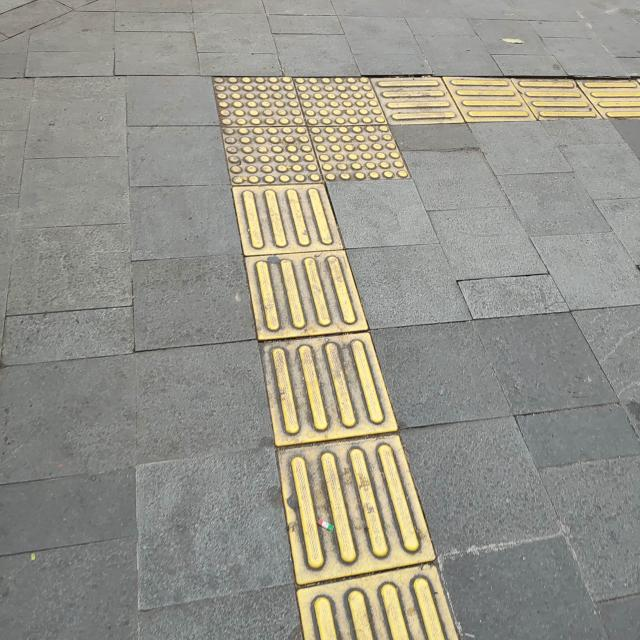kanan: (187, 50, 532, 220)
